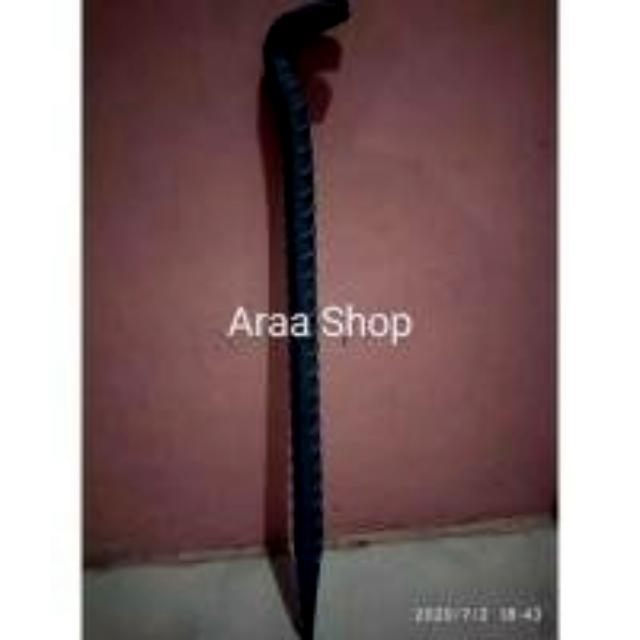crow bar: (259, 0, 367, 639)
